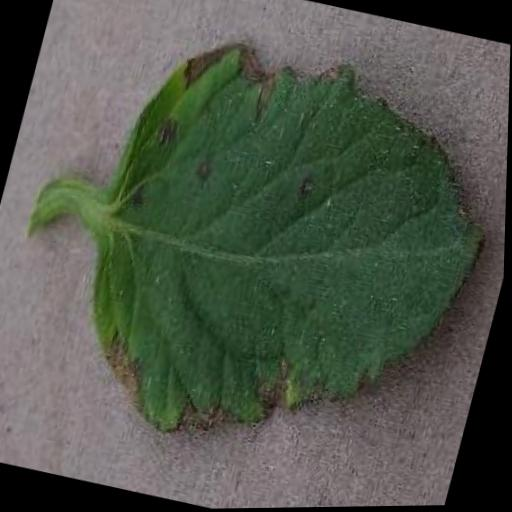Bacterial Spot: (47, 15, 512, 498)
